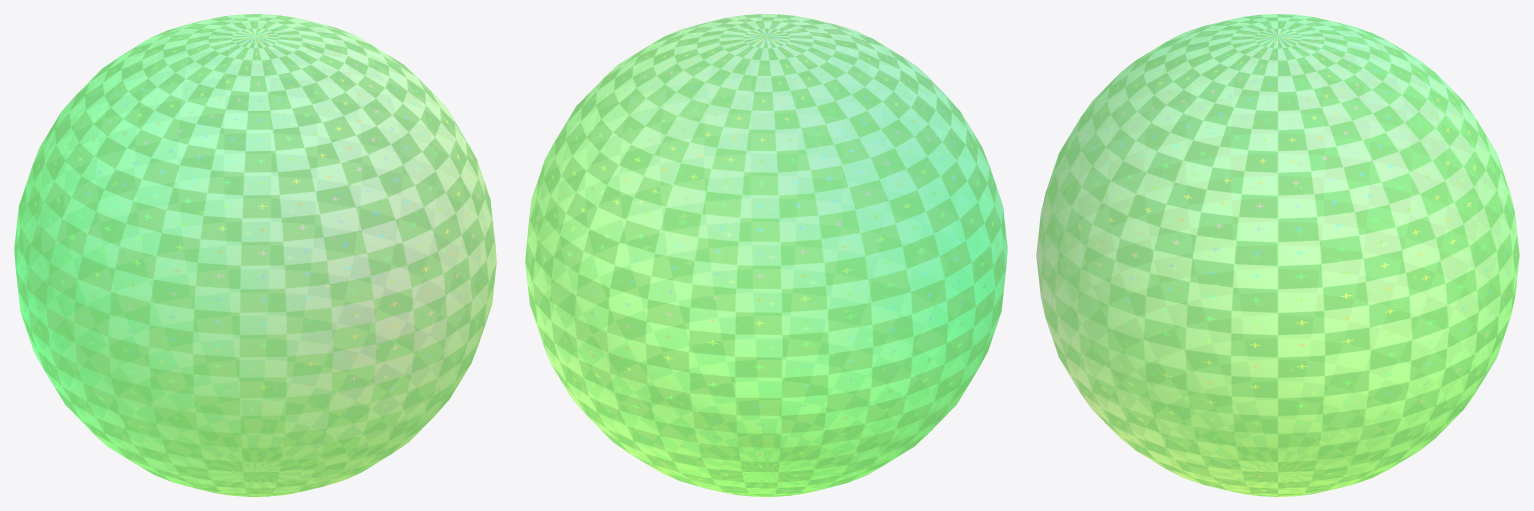
3 renders of one model, left to right at view 1: azimuth 30°, elevation 25°; view 2: azimuth 150°, elevation 25°; view 3: azimuth 270°, elevation 25°, orthographic.
Visible parts, largest first — view 1: Sphere; view 2: Sphere; view 3: Sphere.
Boxes of the visible parts, x1,y1,x2,y2 form: Sphere: [14, 14, 496, 496]; Sphere: [525, 14, 1007, 496]; Sphere: [1036, 14, 1519, 496].
Bounding box in the file's own units: 2 × 2 × 2.
Materials: 1 (1 with a texture image).
